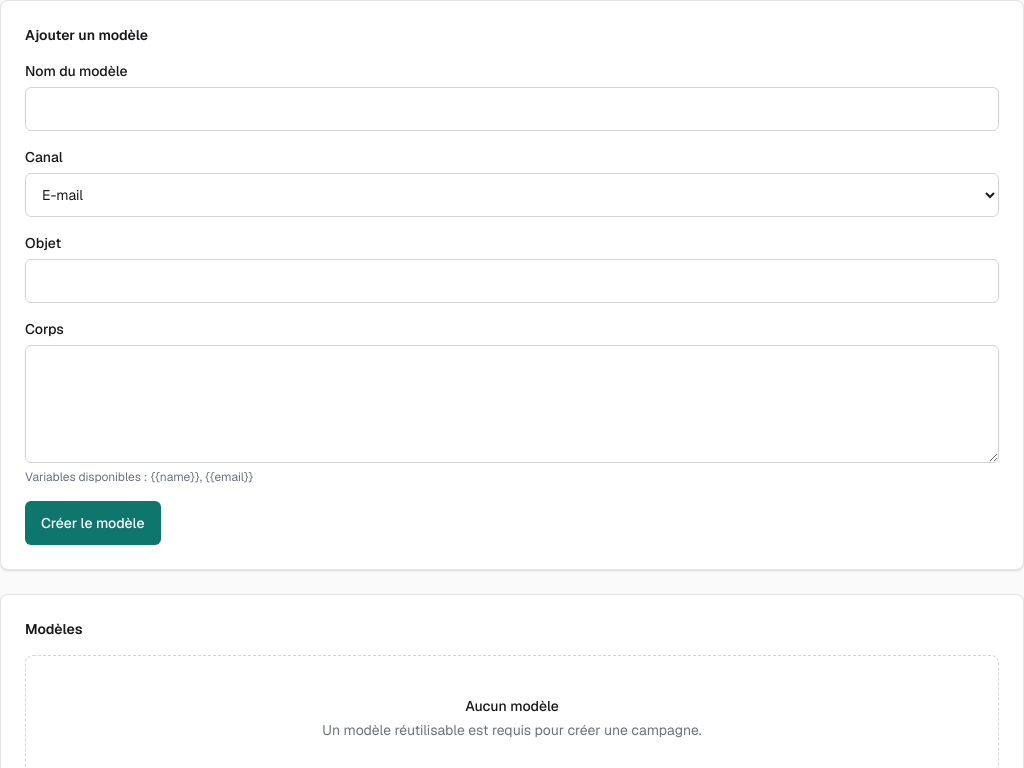
Test case: CampaignTemplatesPage › masque l objet pour le canal chat
Expected: the text "Aucun modèle" is shown, [465,696,559,716]
Select "Chat" in the dropdown labelled "Canal" at coordinates (512, 195), box [25,173,999,217]
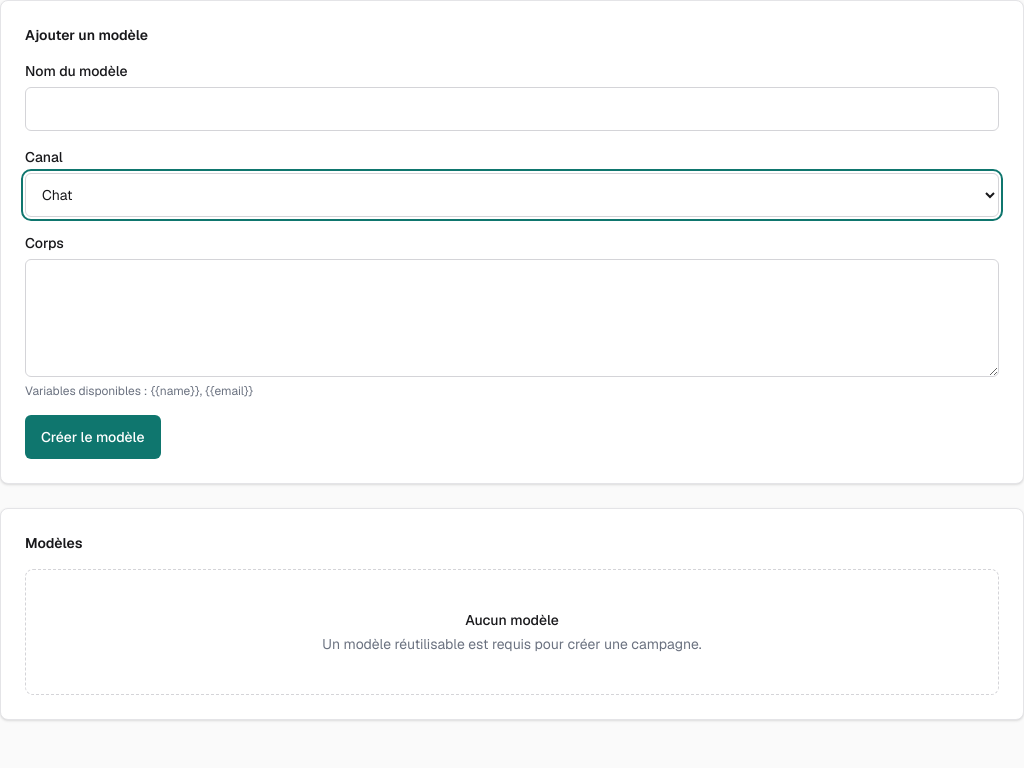
Expected: the label labelled "Objet" is gone
